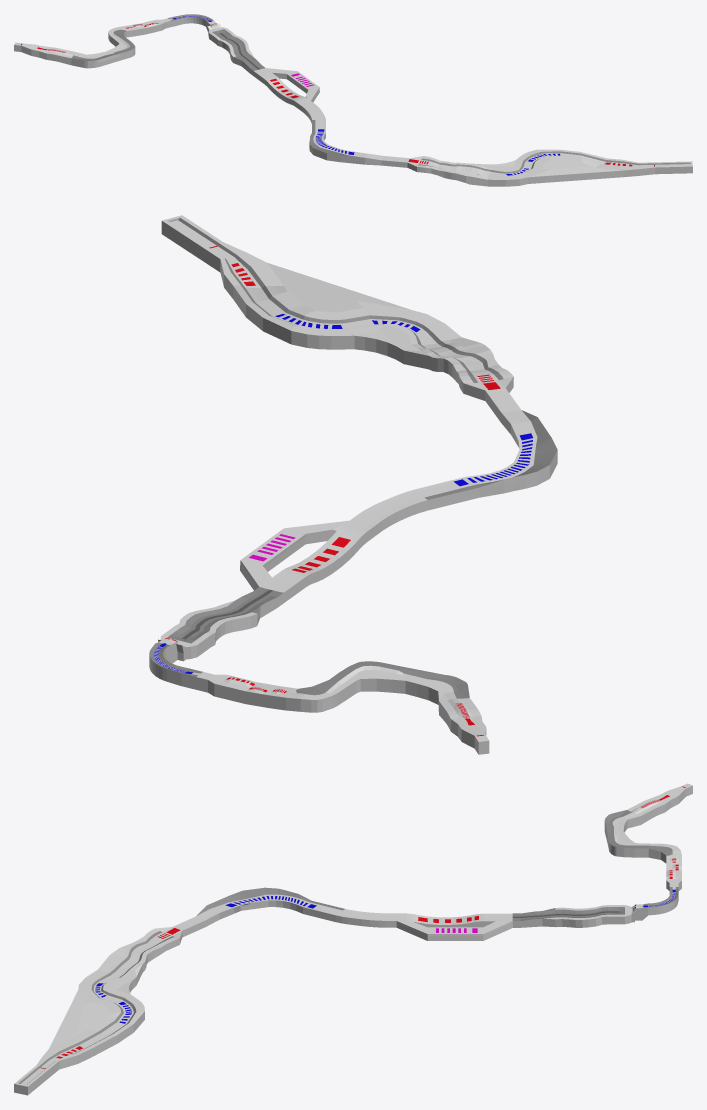
File: SciFi_Buildings.fbx
The picture shows the model from 3 angles, top to bottom: view 1: azimuth 30°, elevation 25°; view 2: azimuth 150°, elevation 25°; view 3: azimuth 270°, elevation 25°; orthographic projection. The views are drawn at different scales.
Parts seen in each view (by area): view 1: Revised Level 1 Model; view 2: Revised Level 1 Model; view 3: Revised Level 1 Model.
Boxes of the visible parts, x1,y1,x2,y2 form: Revised Level 1 Model: (14,14,692,186); Revised Level 1 Model: (149,215,557,754); Revised Level 1 Model: (14,783,692,1095).
Size of what is drawn, in the model's own units: 55716 by 4800 by 60648.
